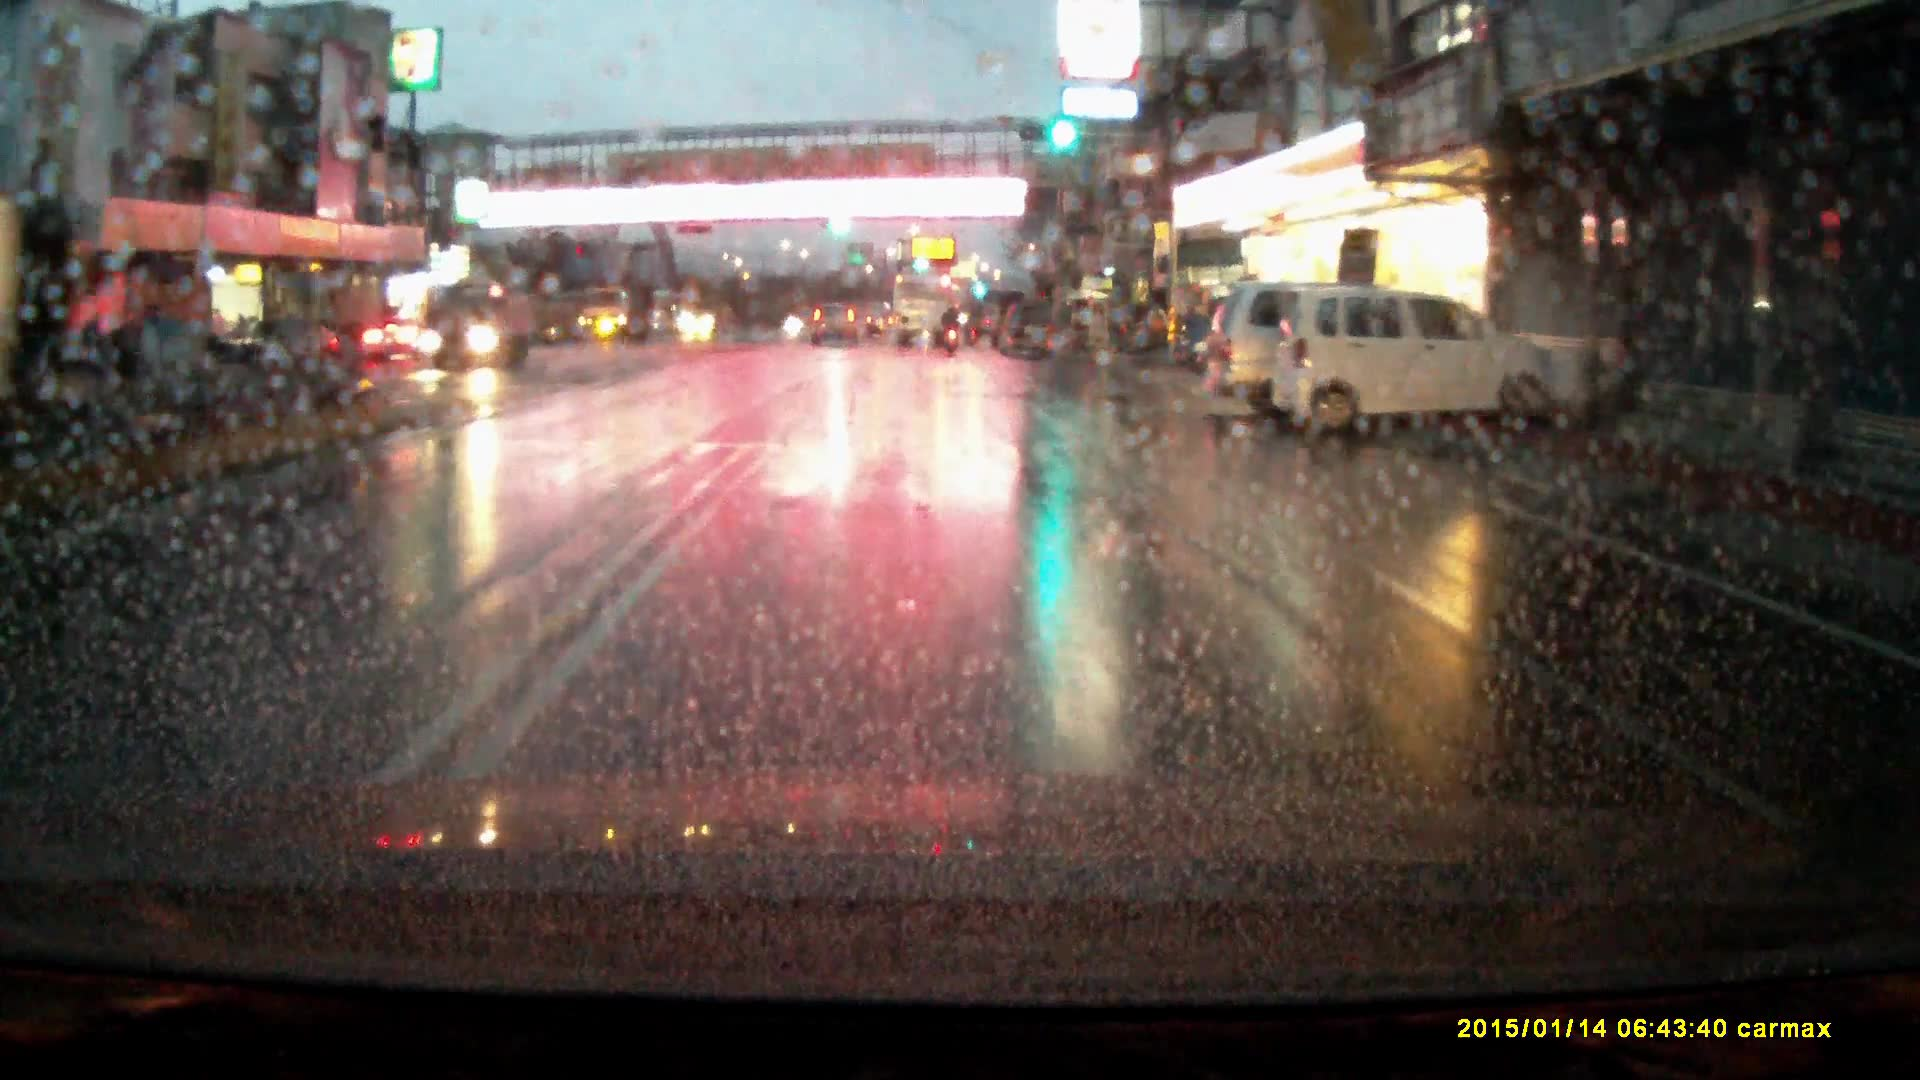rider: (942, 309, 963, 360)
vehicle: (1271, 293, 1583, 443), (1205, 286, 1384, 432), (418, 296, 529, 380), (223, 321, 343, 378), (895, 279, 953, 352), (575, 293, 648, 346), (997, 306, 1056, 365), (1112, 305, 1170, 362), (362, 325, 430, 370), (678, 298, 741, 345), (812, 303, 862, 353)
